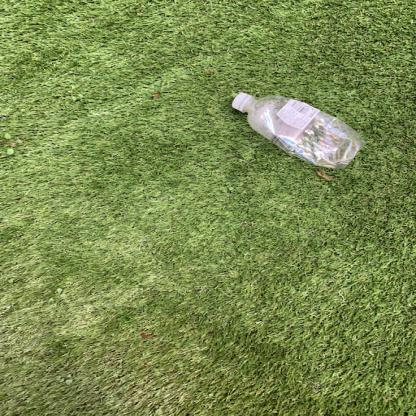trash: (225, 89, 370, 176)
